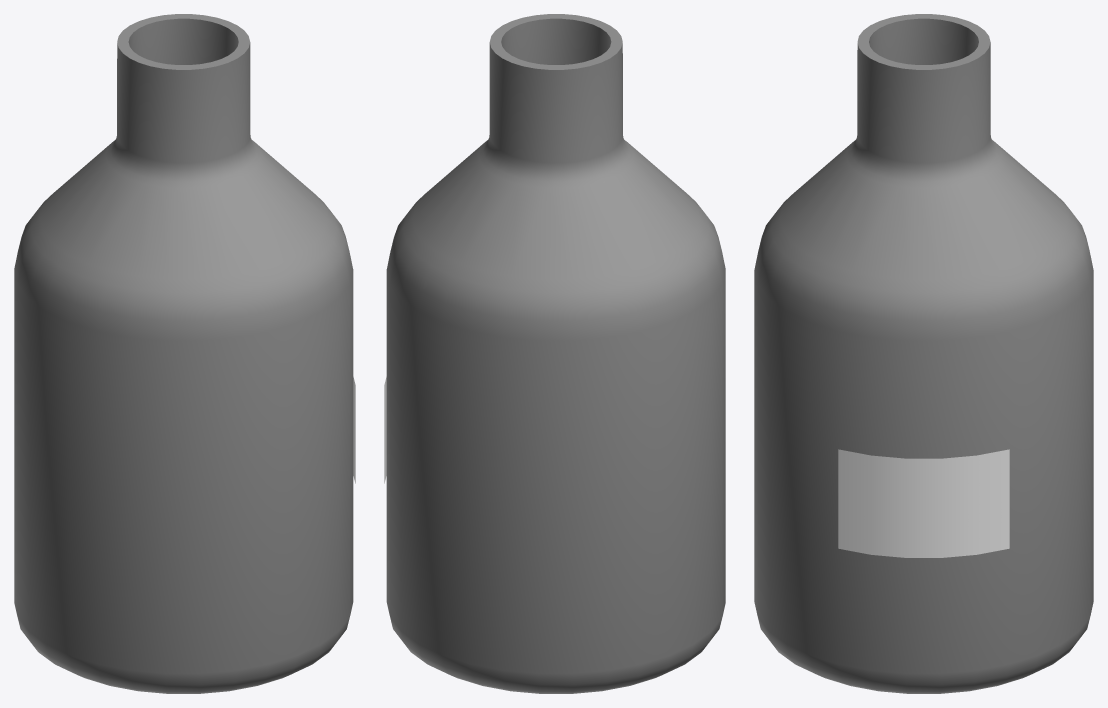
The model's file is SM_40%氢氧化钠.fbx.
3 views of the same model, side by side, from view 1: azimuth 30°, elevation 25°; view 2: azimuth 150°, elevation 25°; view 3: azimuth 270°, elevation 25° (orthographic).
Parts seen in each view (by area): view 1: SM_40%氢氧化钠; view 2: SM_40%氢氧化钠; view 3: SM_40%氢氧化钠.
Part boxes in pixels (x1,y1,x2,y2): SM_40%氢氧化钠: (14, 14, 355, 693); SM_40%氢氧化钠: (384, 14, 725, 693); SM_40%氢氧化钠: (754, 14, 1093, 693).
Bounding box in the file's own units: 0.0596 × 0.1147 × 0.0595.
